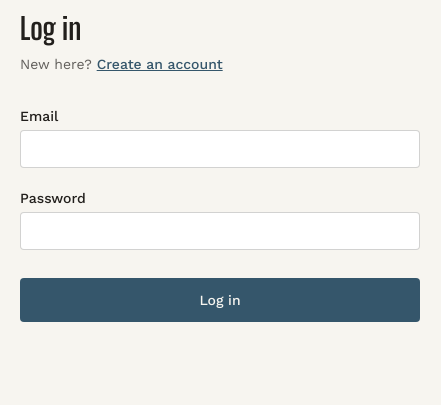
Login page › shows a plain-language error when login fails
Step 1. Type "donor@example.com" into the field labelled "Email" → (220, 149), box [20,130,420,168]
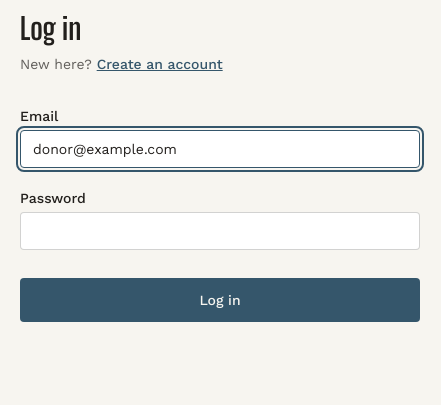
Step 2. Type "wrong-password" into the password field labelled "Password" → (220, 231), box [20,212,420,250]
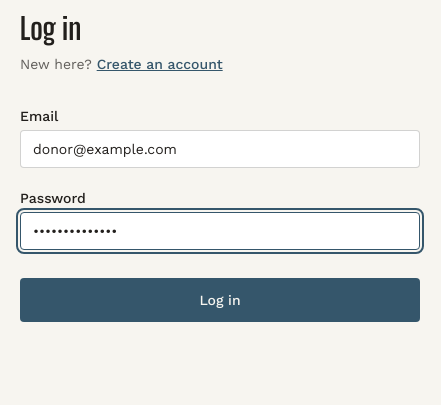
Step 3. Click the button "Log in" → click(220, 300), box [20,278,420,322]
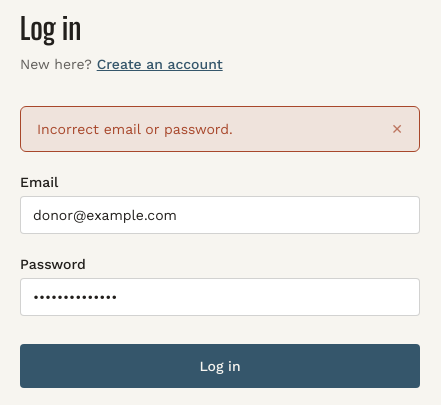
Check: the text "Incorrect email or password." is shown, box [37,119,233,139]
